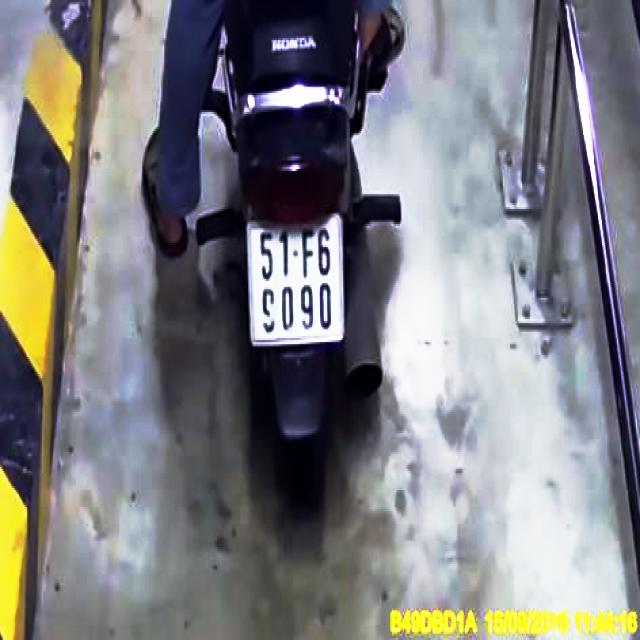license_plate: (247, 216, 345, 346)
